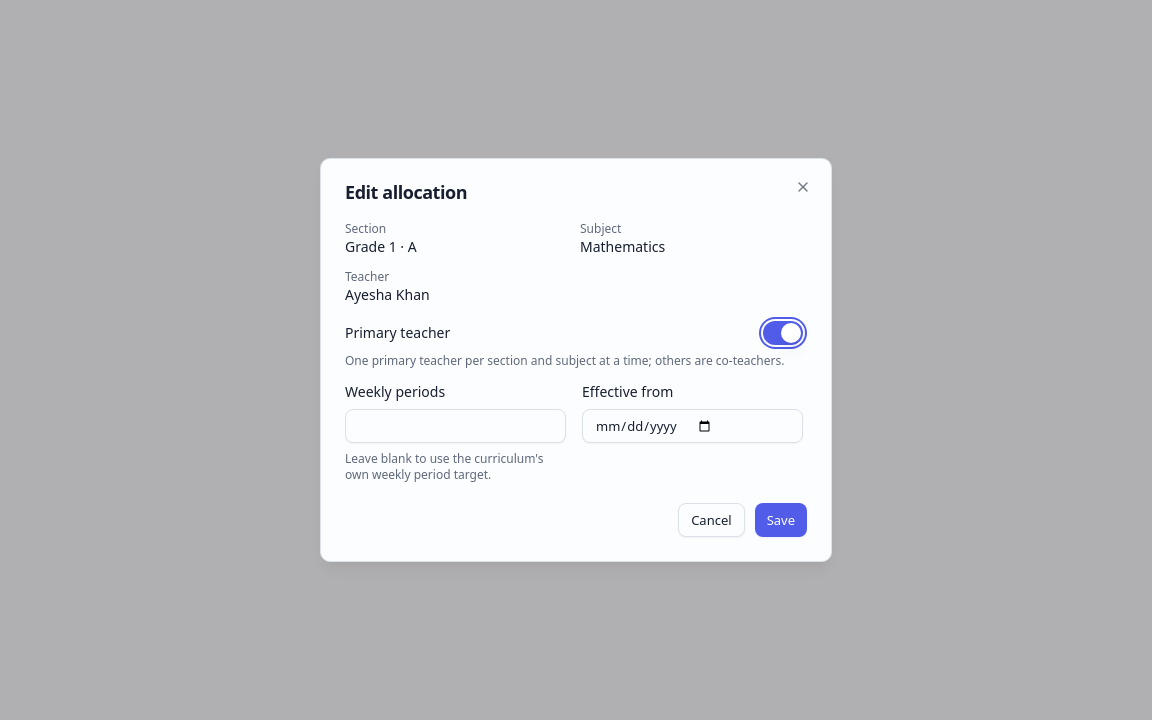
Test case: EditAllocationDialog › saving › asks for a whole number of periods when the override is 0
In the number field labelled "Weekly periods": (456, 426) top-left (345, 409), bottom-right (566, 443), type "0"
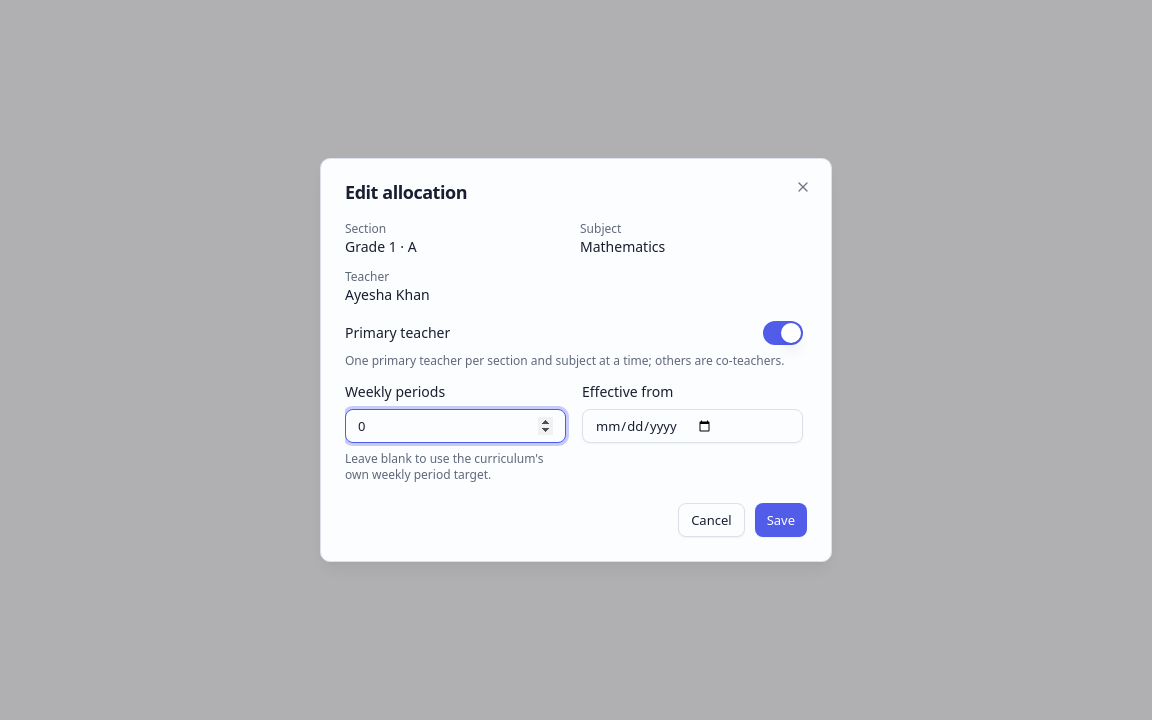
Click the button "Save": (781, 520) top-left (755, 503), bottom-right (807, 537)
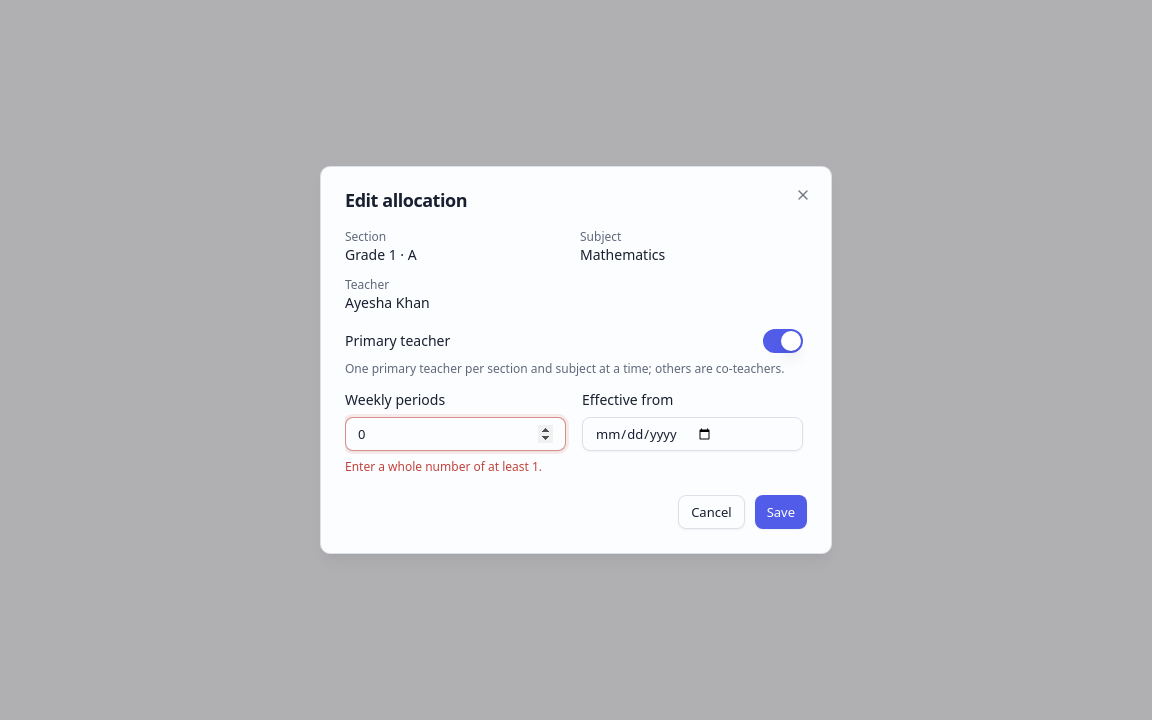
Expected: the text "Enter a whole number of at least 1." is shown, top-left (345, 459), bottom-right (566, 475)
